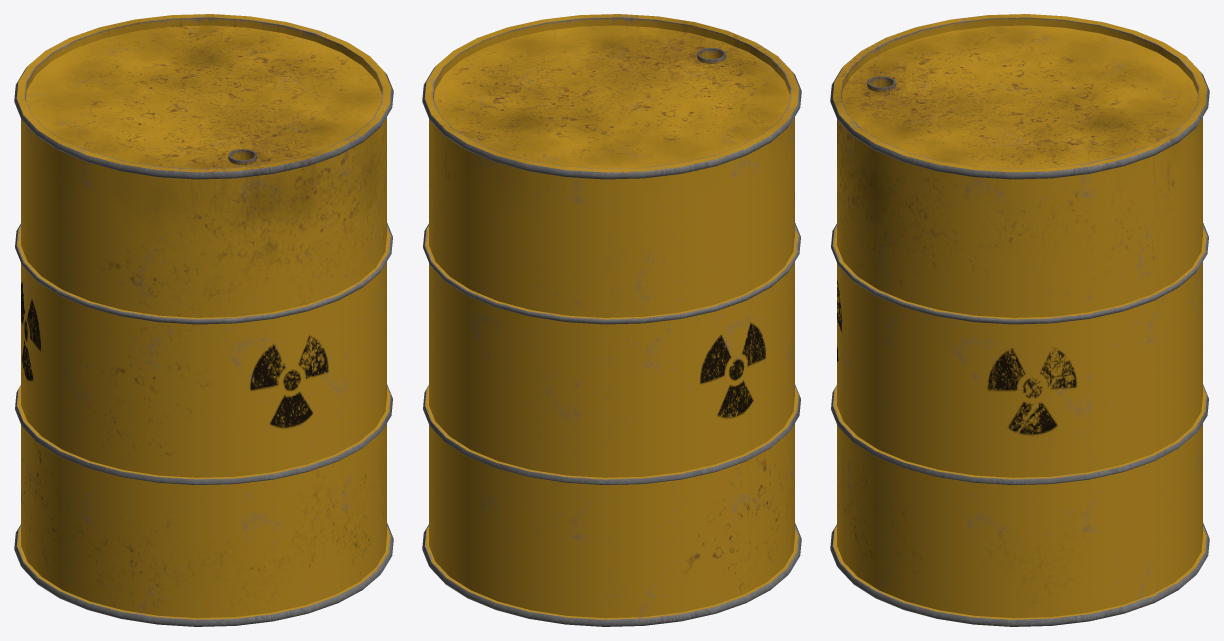
File: barrels_fbx.fbx
3 renders of one model, left to right at view 1: azimuth 30°, elevation 25°; view 2: azimuth 150°, elevation 25°; view 3: azimuth 270°, elevation 25°, orthographic.
Visible parts, largest first — view 1: drum2; view 2: drum2; view 3: drum2.
Boxes of the visible parts, <box> form: drum2: <box>14,14,393,626</box>; drum2: <box>422,14,801,626</box>; drum2: <box>830,14,1209,626</box>.
Bounding box in the file's own units: 56.48 × 74.51 × 56.41.
